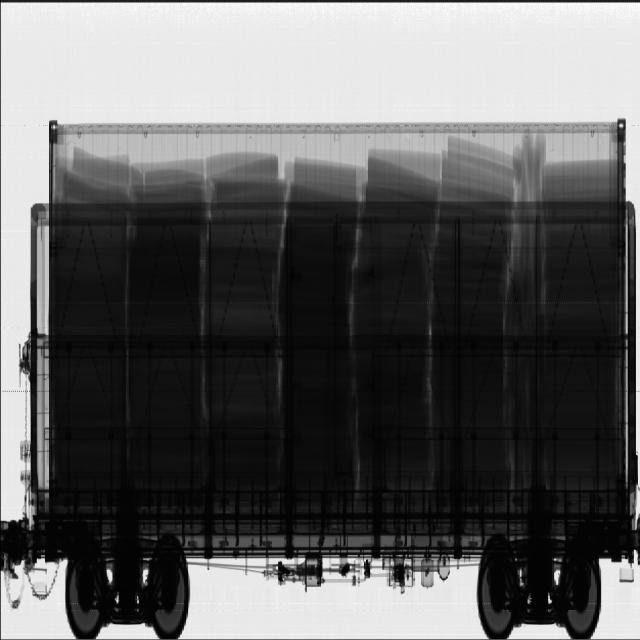fabrics: (55, 131, 618, 488)
